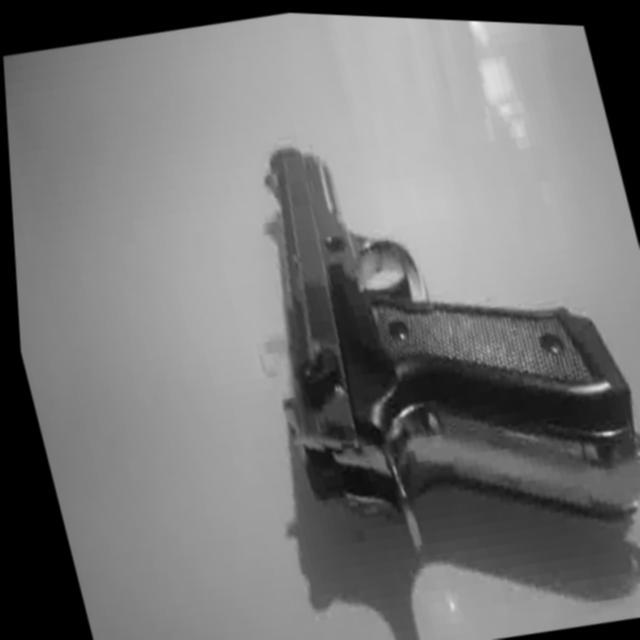weapon: (210, 85, 640, 574)
